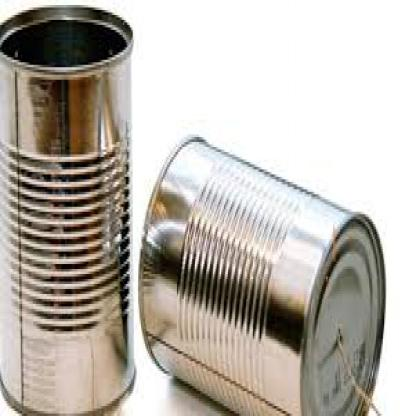METAL: (137, 134, 384, 414), (0, 5, 133, 413)
